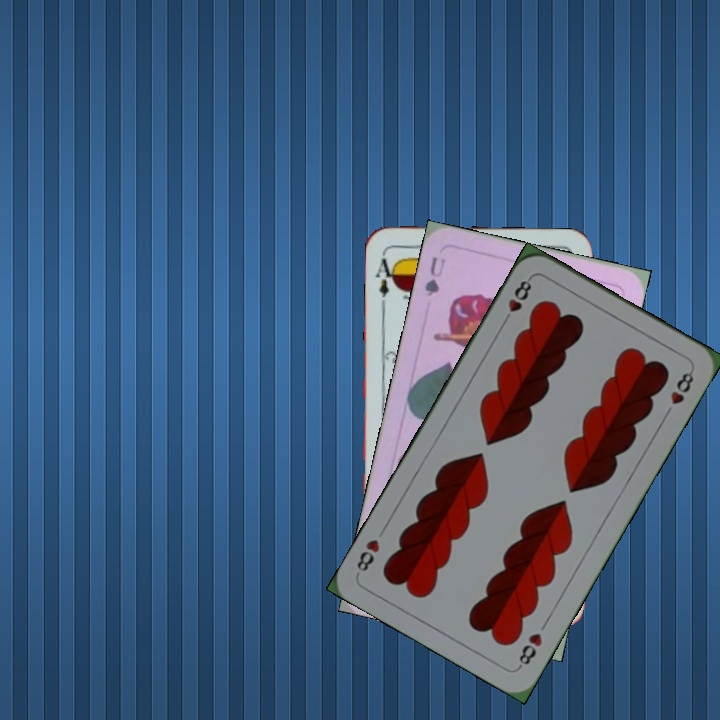EA: (372, 254, 399, 300)
GU: (420, 252, 448, 300)
H8: (499, 273, 535, 327), (514, 628, 545, 671)
